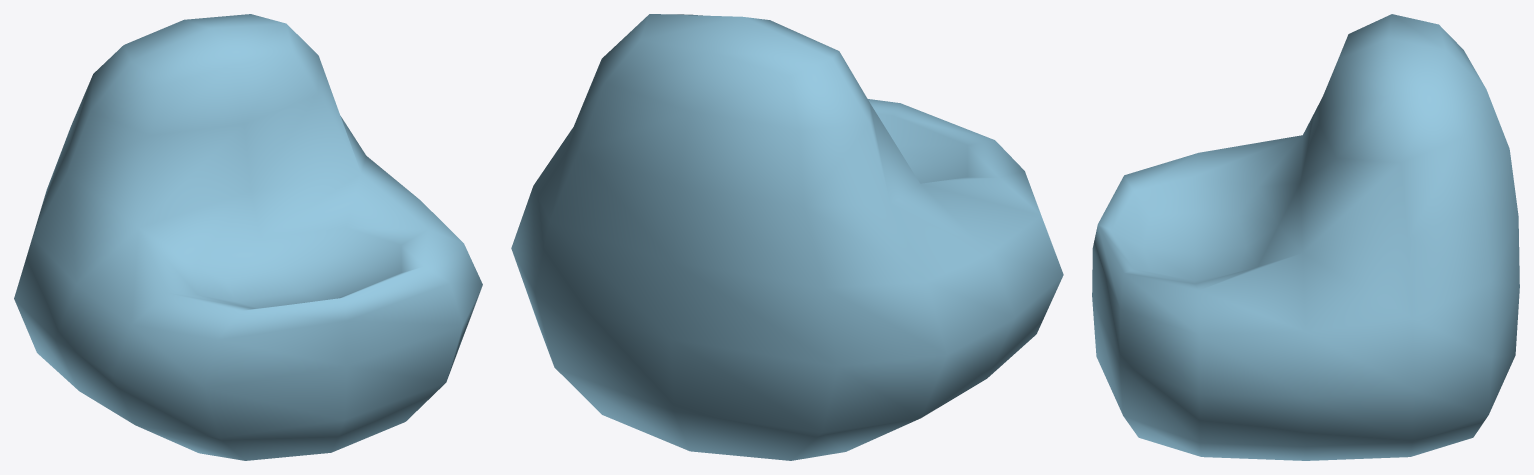
Rendered from Props_BeanBag_03.fbx.
3 renders of one model, left to right at view 1: azimuth 30°, elevation 25°; view 2: azimuth 150°, elevation 25°; view 3: azimuth 270°, elevation 25°, orthographic. The views are drawn at different scales.
Parts seen in each view (by area): view 1: Props_BeanBag_03; view 2: Props_BeanBag_03; view 3: Props_BeanBag_03.
Boxes of the visible parts, x1,y1,x2,y2 form: Props_BeanBag_03: (14, 14, 482, 460); Props_BeanBag_03: (511, 14, 1063, 460); Props_BeanBag_03: (1092, 14, 1519, 460).
Size of the model in its own units: 75.96 by 66.95 by 67.08.
